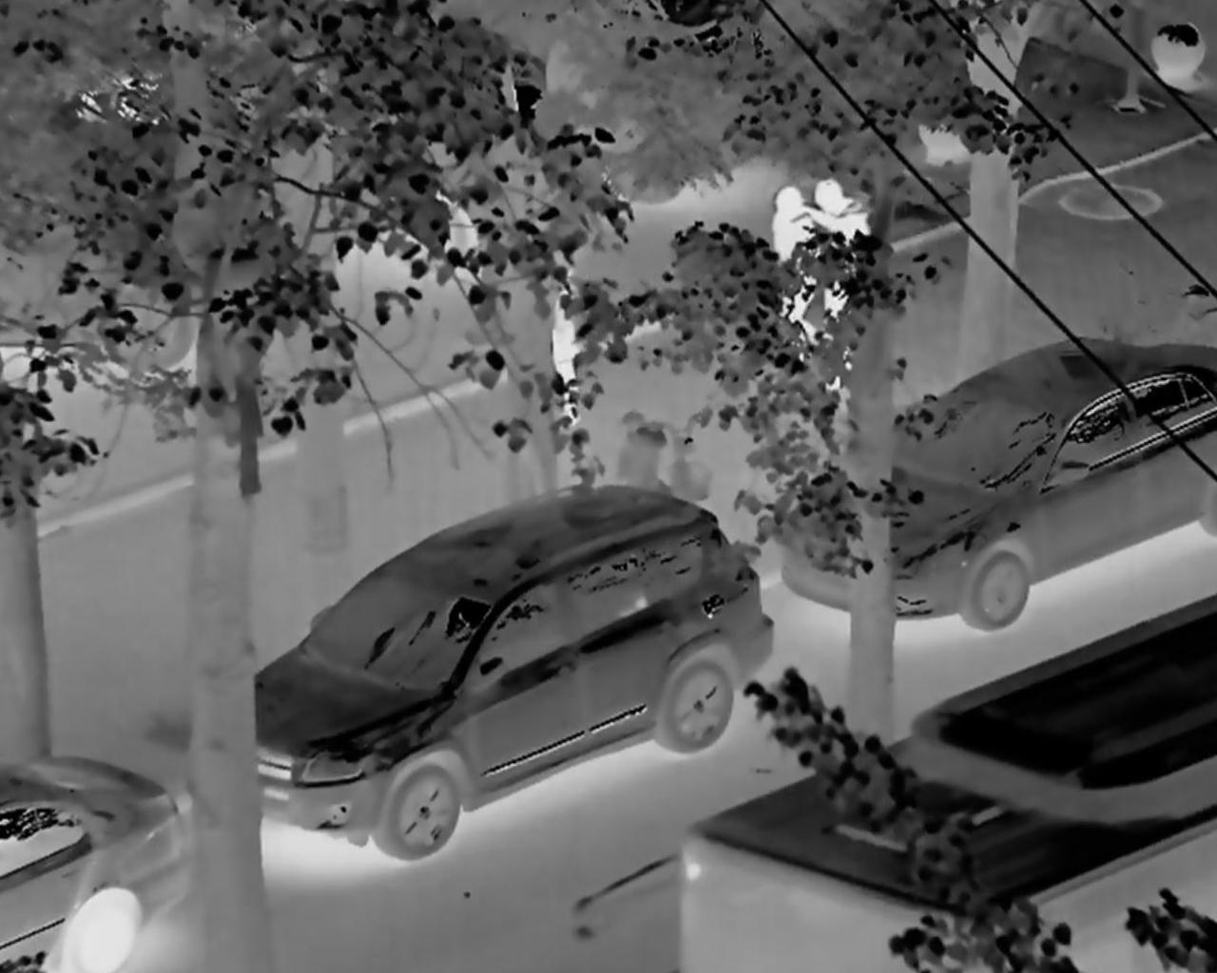person: (745, 157, 817, 388), (807, 161, 879, 352)
